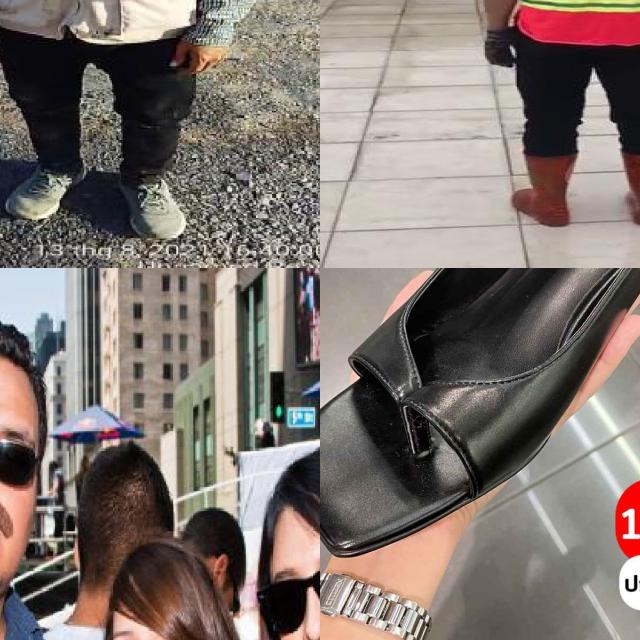Sandals: (320, 268, 640, 582)
boots: (515, 149, 576, 227), (618, 150, 640, 225)
face_nomask: (0, 405, 37, 556), (268, 549, 320, 640)
glasses: (252, 553, 320, 637), (0, 419, 44, 488)
hand_glove: (483, 28, 515, 69)
hand_noglove: (167, 35, 232, 82)
head_nohelmet: (108, 548, 208, 623), (84, 440, 172, 500), (255, 457, 320, 531), (0, 306, 45, 387)
person: (0, 0, 270, 249), (468, 0, 640, 233), (0, 293, 96, 640), (82, 539, 273, 640)
shoes: (108, 157, 196, 242), (0, 151, 92, 225)
